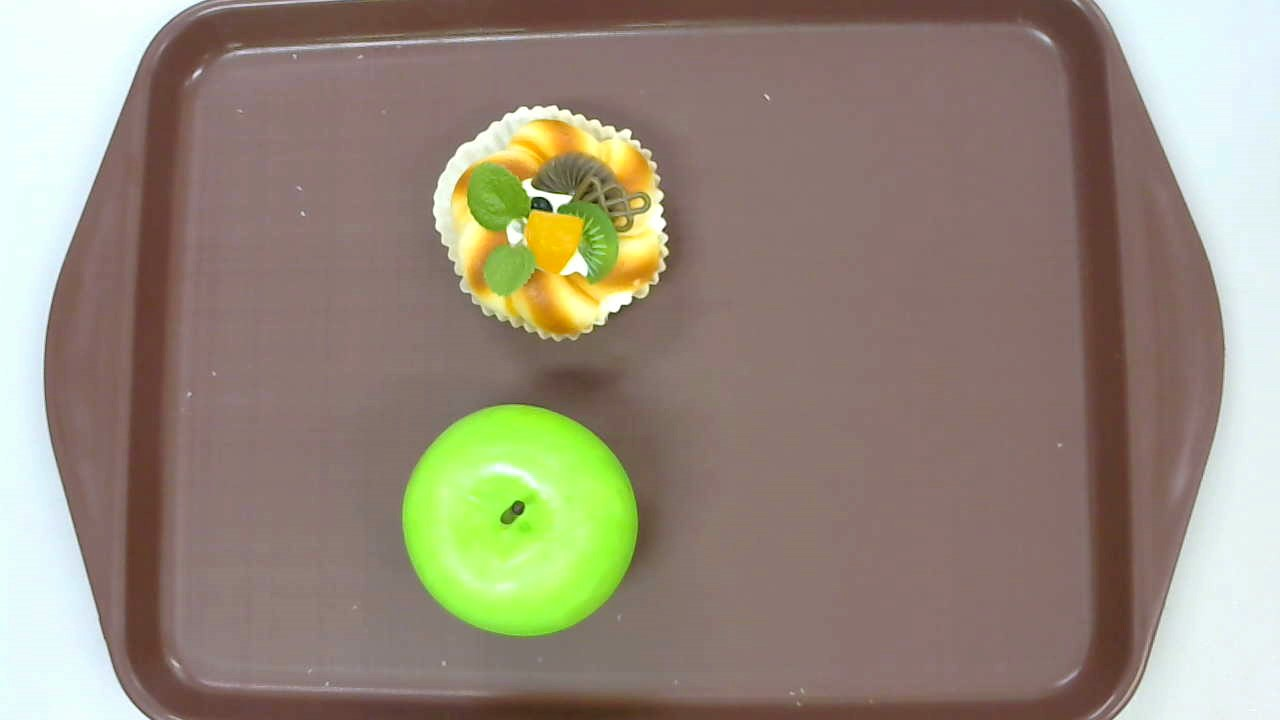fruit tart: (432, 104, 669, 344)
green apple: (402, 403, 639, 638)
